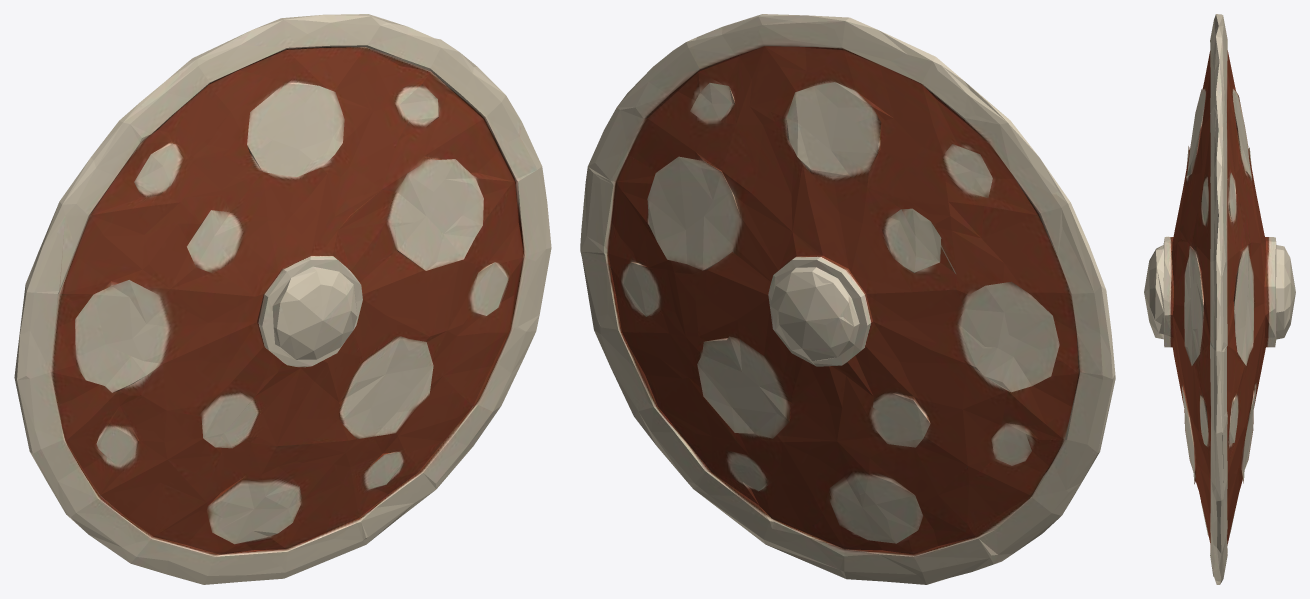
Rendered from champignon_bouclier.glb.
The picture shows the model from 3 angles, left to right: view 1: azimuth 30°, elevation 25°; view 2: azimuth 150°, elevation 25°; view 3: azimuth 270°, elevation 25°; orthographic projection. The views are drawn at different scales.
Visible parts, largest first — view 1: tripo_node_f2ead0cb-6037-46b4-8938-c61d89145477; view 2: tripo_node_f2ead0cb-6037-46b4-8938-c61d89145477; view 3: tripo_node_f2ead0cb-6037-46b4-8938-c61d89145477.
Part boxes in pixels (left/top/right/bottom): tripo_node_f2ead0cb-6037-46b4-8938-c61d89145477: left=14, top=14, right=551, bottom=584; tripo_node_f2ead0cb-6037-46b4-8938-c61d89145477: left=580, top=14, right=1115, bottom=584; tripo_node_f2ead0cb-6037-46b4-8938-c61d89145477: left=1144, top=14, right=1295, bottom=584.
Size of the model in its own units: 0.9986 by 1 by 0.2627.
Materials: 1 (1 with a texture image).
